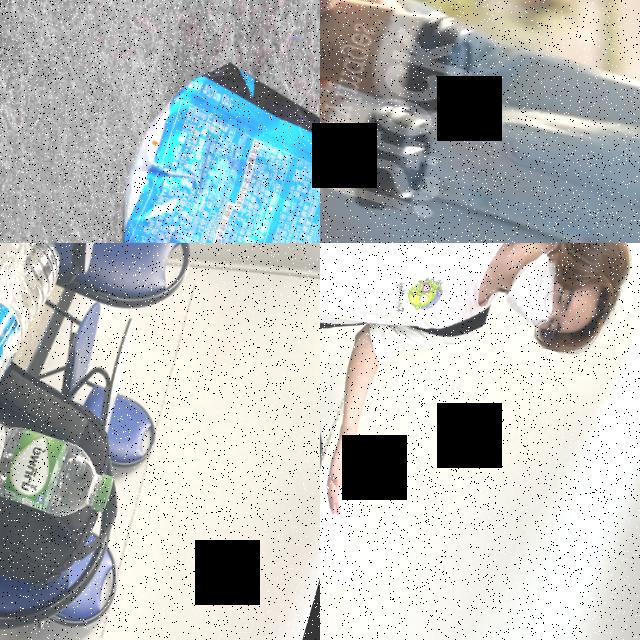bottle: (0, 397, 122, 531), (0, 243, 68, 443)
cup: (320, 0, 486, 123), (320, 60, 440, 221)
